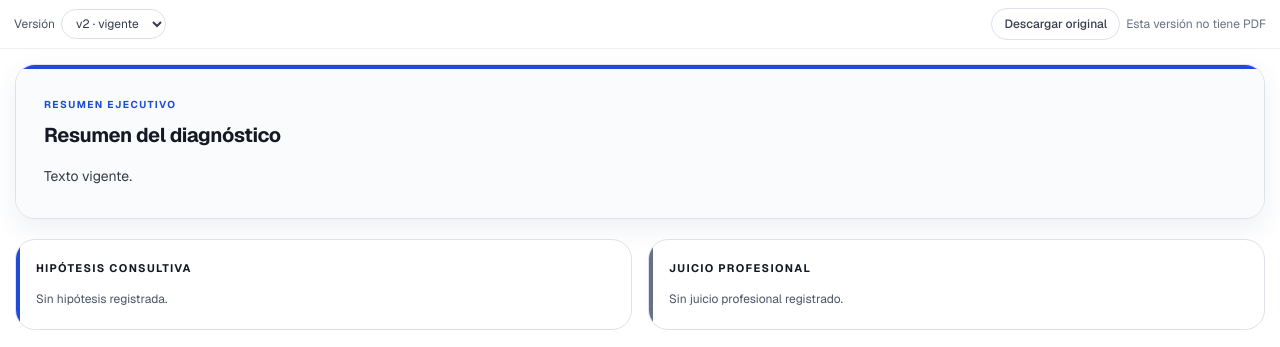
Scenario: vista rápida de entregables en la conversación › permite elegir una versión anterior en el panel sin mostrar la vigente en su lugar
expect the text "Texto vigente." is shown: met, box [44,167,132,185]
Select "v1" in the dropdown named "Versión del entregable". click: (113, 24)
box: [61,9,166,39]
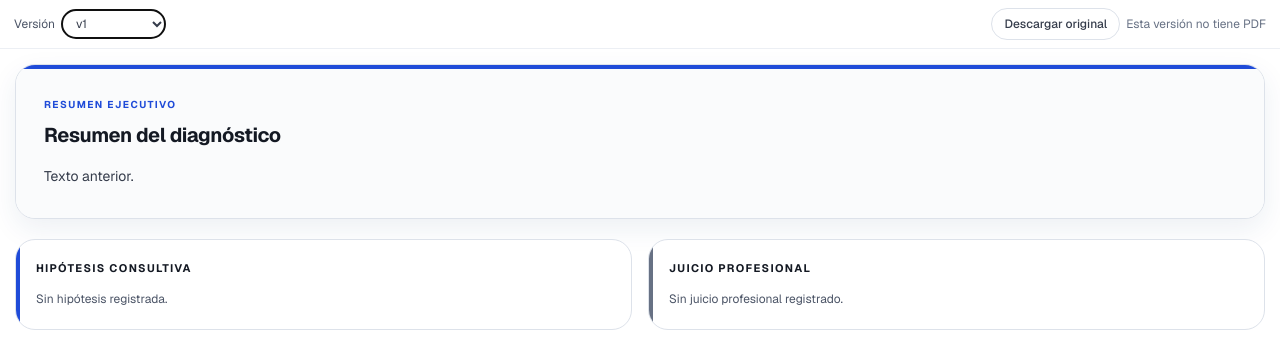
expect the text "Texto anterior." is shown: met, box [44,167,134,185]
expect the text "Texto vigente." is gone: met
